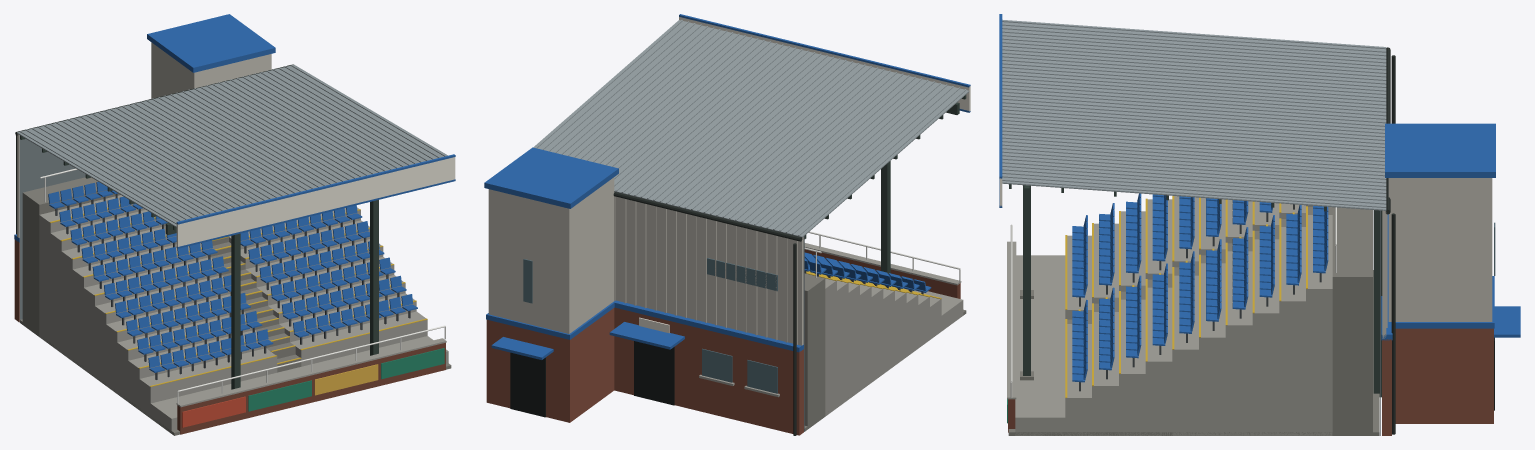
Rendered from main_stand_10.glb.
3 renders of one model, left to right at view 1: azimuth 30°, elevation 25°; view 2: azimuth 150°, elevation 25°; view 3: azimuth 270°, elevation 25°, orthographic. The views are drawn at different scales.
Visible parts, largest first — view 1: Main_Corrugated_Sheet, Main_Concrete, Main_Club_Primary_Seats, Main_Club_Secondary_Fascia, Main_Concrete_Dark, Main_Club_Primary_Trim, Main_Front_Wall, Main_Rear_Cladding, Main_Steel_Frame, Main_Corrugated_Underside, Main_Seat_Bracket, Main_Advert_2 (+5 smaller); view 2: Main_Corrugated_Sheet, Main_Rear_Cladding, Main_Rear_Brick, Main_Concrete, Main_Club_Primary_Trim, Main_Shadow_Gap, Main_Window_Glass, Main_Concrete_Dark, Main_Club_Primary_Seats, Main_Gutter, Main_Club_Secondary_Fascia, Main_Steel_Frame (+2 smaller); view 3: Main_Corrugated_Sheet, Main_Concrete, Main_Club_Primary_Seats, Main_Rear_Cladding, Main_Concrete_Dark, Main_Rear_Brick, Main_Club_Primary_Trim, Main_Step_Edge_Yellow, Main_Steel_Frame, Main_Gutter, Main_Railing_White, Main_Corrugated_Underside.
Boxes of the visible parts, x1,y1,x2,y2 form: Main_Corrugated_Sheet: (17,64,447,227); Main_Concrete: (39,195,448,433); Main_Club_Primary_Seats: (48,182,417,372); Main_Club_Secondary_Fascia: (176,157,455,247); Main_Concrete_Dark: (20,177,451,435); Main_Club_Primary_Trim: (14,14,455,248); Main_Front_Wall: (177,342,445,434); Main_Rear_Cladding: (17,42,271,237); Main_Steel_Frame: (20,135,378,389); Main_Corrugated_Underside: (17,133,176,322); Main_Seat_Bracket: (55,193,410,379); Main_Advert_2: (248,348,444,411); Main_Corrugated_Sheet: (533,20,969,237); Main_Rear_Cladding: (488,177,803,345); Main_Rear_Brick: (486,307,803,435); Main_Concrete: (699,243,963,416); Main_Club_Primary_Trim: (484,14,970,359); Main_Shadow_Gap: (510,341,674,417); Main_Window_Glass: (523,258,777,393); Main_Concrete_Dark: (804,273,966,431); Main_Club_Primary_Seats: (804,252,931,292); Main_Gutter: (613,191,802,435); Main_Club_Secondary_Fascia: (639,17,970,332); Main_Steel_Frame: (804,95,966,273); Main_Corrugated_Sheet: (1002,19,1386,210); Main_Concrete: (1007,196,1332,435); Main_Club_Primary_Seats: (1072,193,1328,382); Main_Rear_Cladding: (1382,178,1492,338); Main_Concrete_Dark: (1008,207,1379,435); Main_Rear_Brick: (1382,328,1493,435); Main_Club_Primary_Trim: (999,14,1520,340); Main_Step_Edge_Yellow: (1065,196,1307,397); Main_Steel_Frame: (1009,184,1382,397); Main_Gutter: (1385,47,1395,434); Main_Railing_White: (1010,207,1336,397); Main_Corrugated_Underside: (1002,183,1385,435).
Size of the model in its own units: 11.52 by 8.56 by 15.6.
